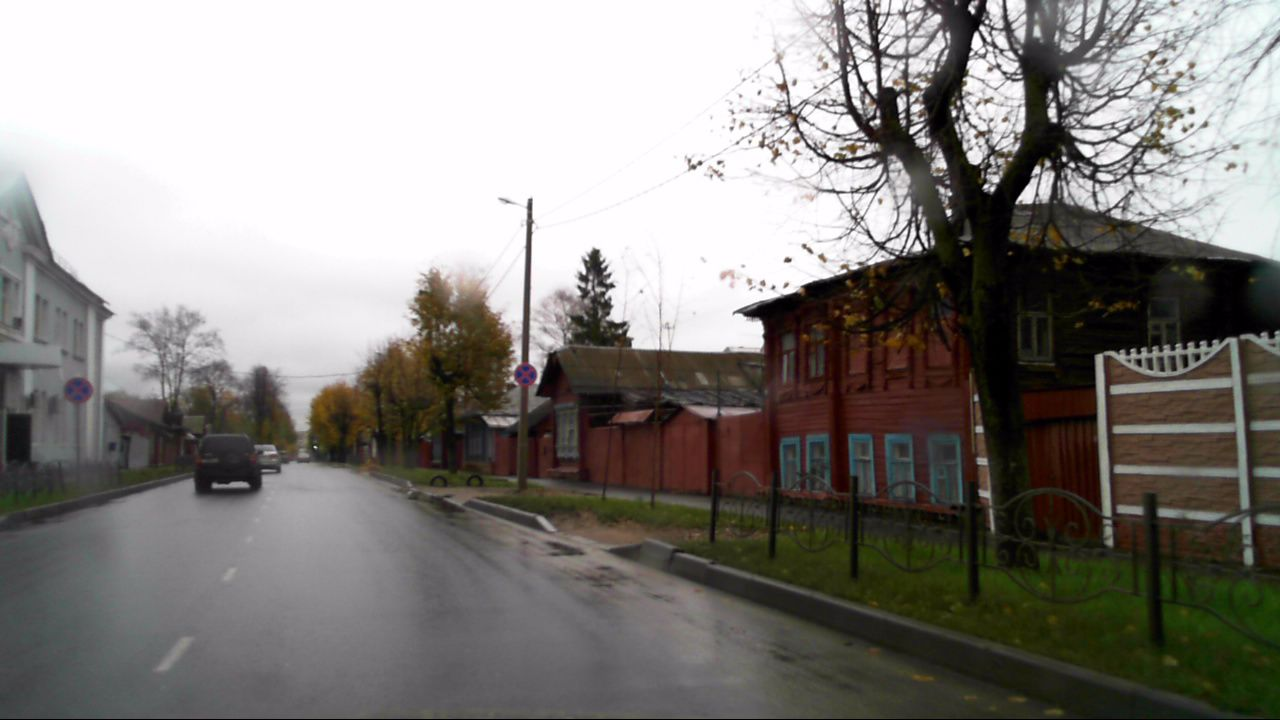No Parking: (63, 376, 93, 405)
